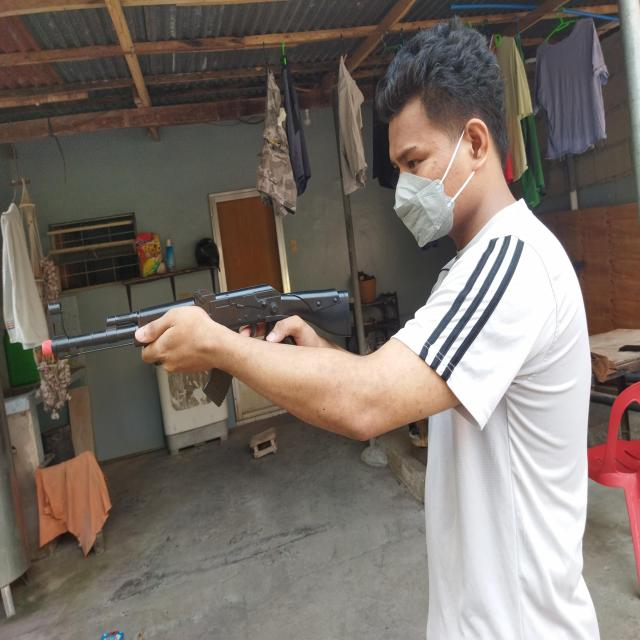rifle: (40, 286, 354, 408)
